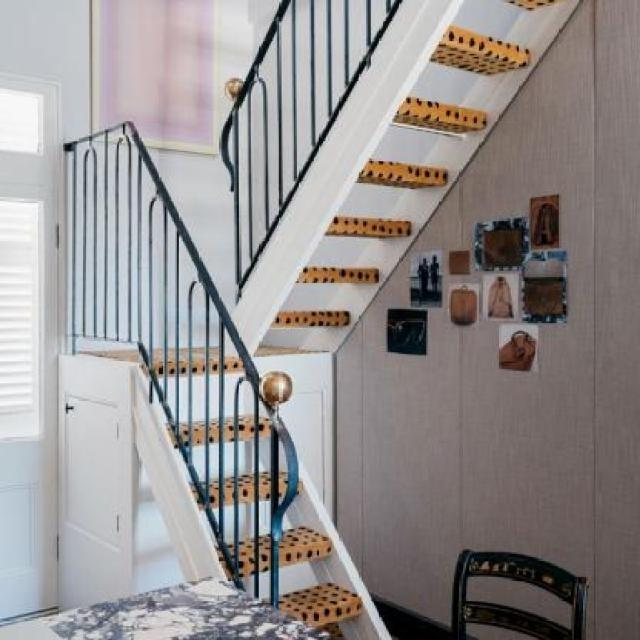stair: (49, 221, 440, 640)
